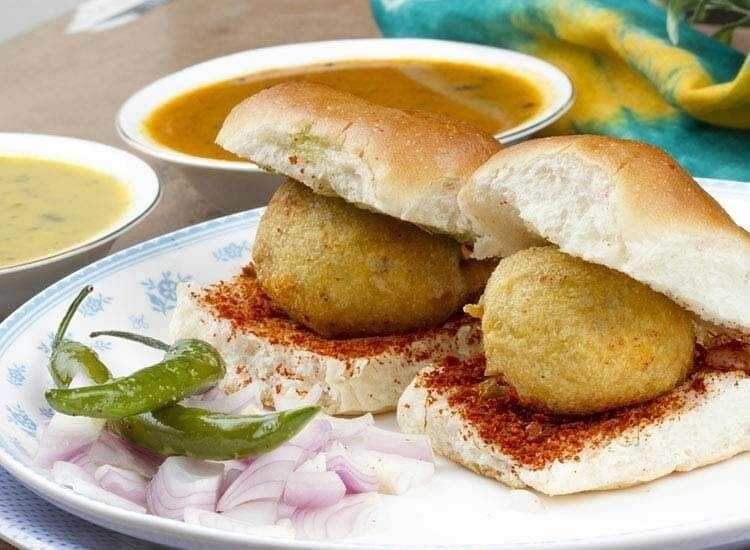vada pav: (475, 134, 734, 479), (215, 86, 407, 390)
